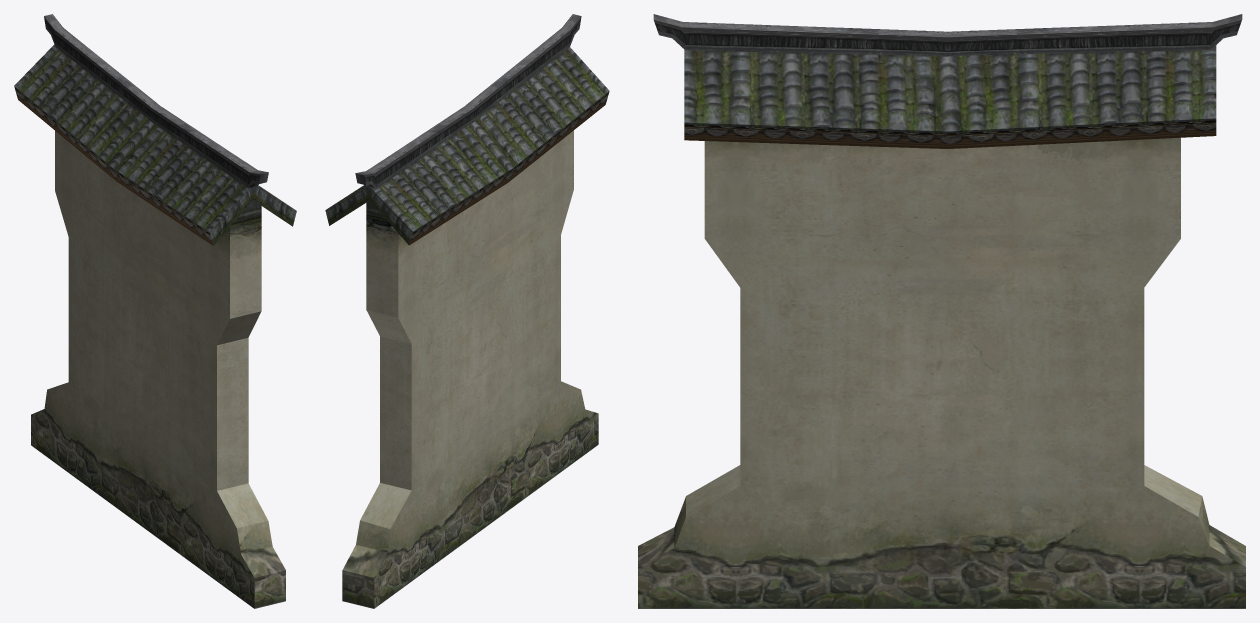
The model's file is qiang_dw_20.fbx.
3 renders of one model, left to right at view 1: azimuth 30°, elevation 25°; view 2: azimuth 150°, elevation 25°; view 3: azimuth 270°, elevation 25°, orthographic. The views are drawn at different scales.
Parts seen in each view (by area): view 1: qiang_dw_20; view 2: qiang_dw_20; view 3: qiang_dw_20.
Boxes of the visible parts, x1,y1,x2,y2 form: qiang_dw_20: (14,14,296,608); qiang_dw_20: (325,14,609,608); qiang_dw_20: (638,14,1245,608).
Size of what is drawn, in the model's own units: 187 by 874 by 828.
